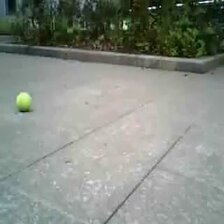tennis: (16, 92, 31, 111)
